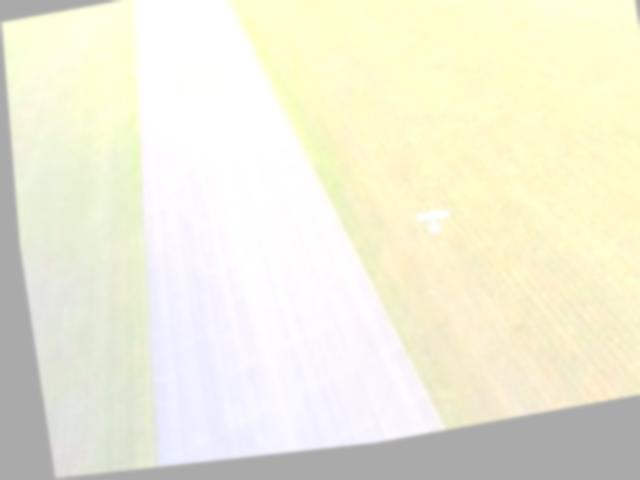uav: (409, 216, 445, 244)
